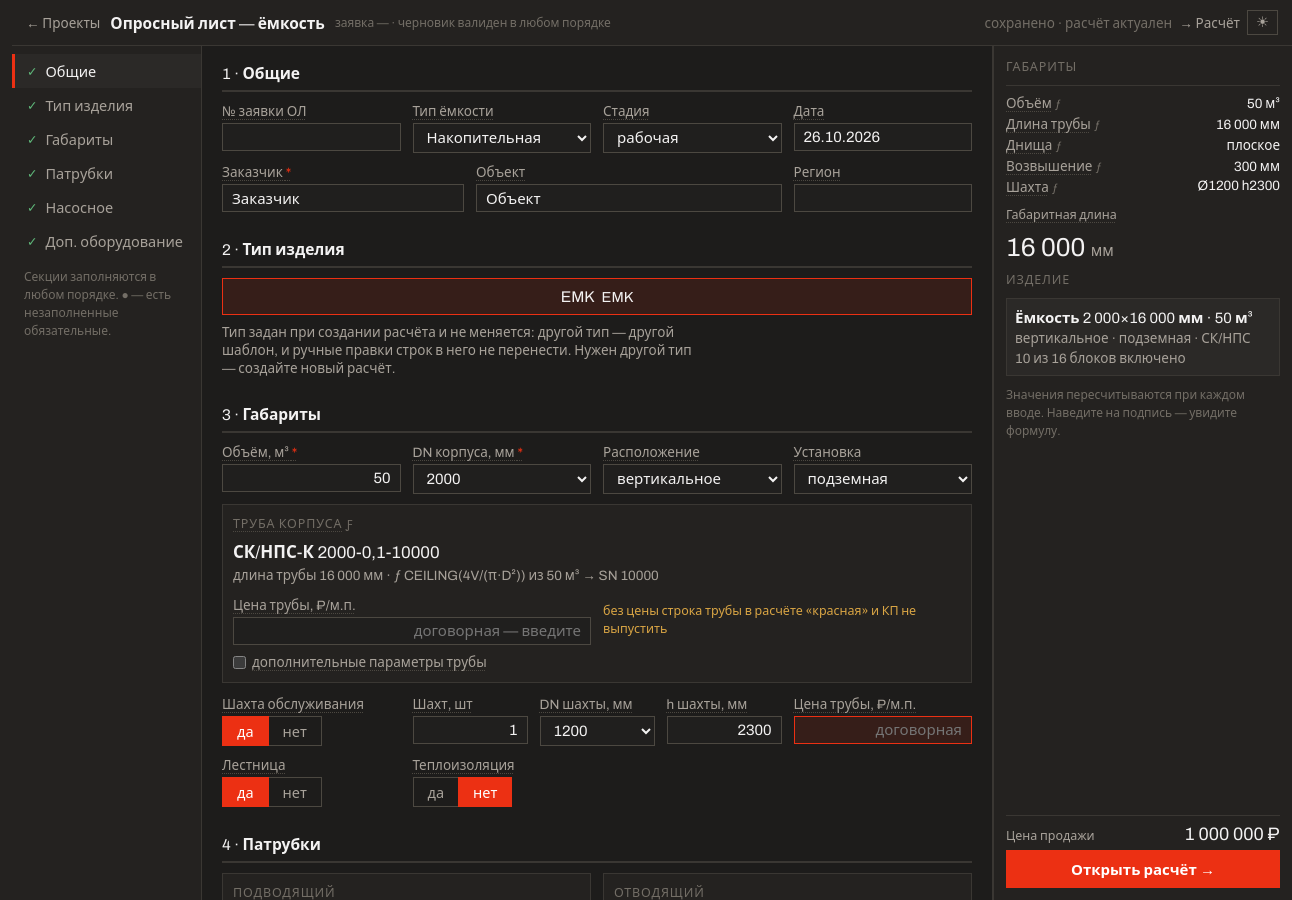
Scenario: ОЛ ЕМК: автосохранение › расчёт отложен — статус говорит, что он пересоберётся позже
Select "2500" in the dropdown labelled "DN корпуса, мм *" at (502, 479), box [412,464,591,494]
Wait 710 ms
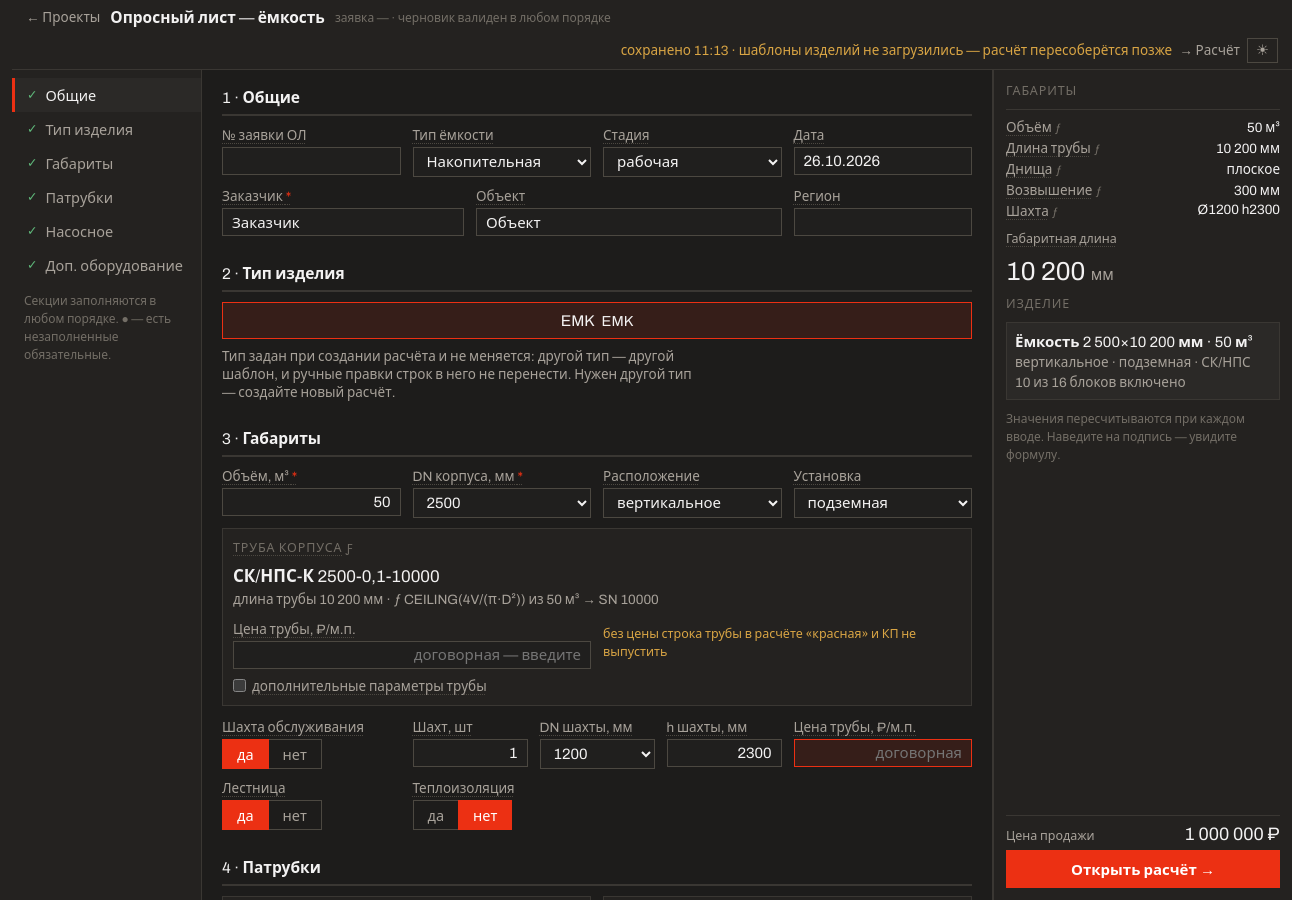
Expected: the text with class "ol-draft" shows "шаблоны изделий не загрузились — расчёт пересоберётся позже", [621,43,1172,58]
